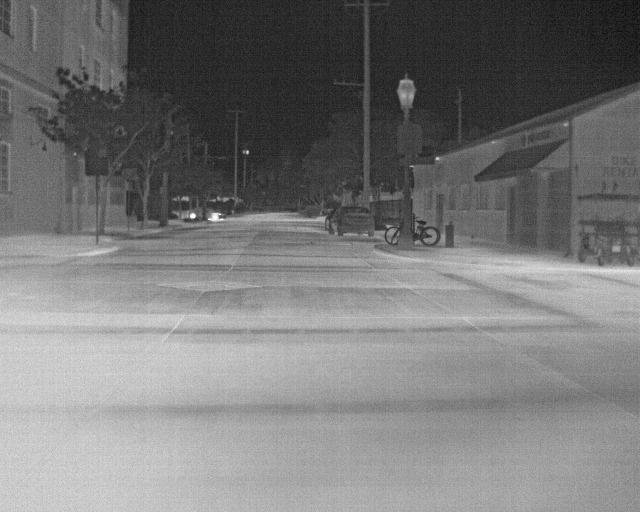bicycle: (414, 218, 441, 247), (594, 238, 617, 265), (576, 235, 595, 264), (383, 223, 403, 246), (622, 238, 635, 264)
car: (325, 203, 376, 237)
